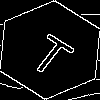T: (25, 25, 82, 80)
